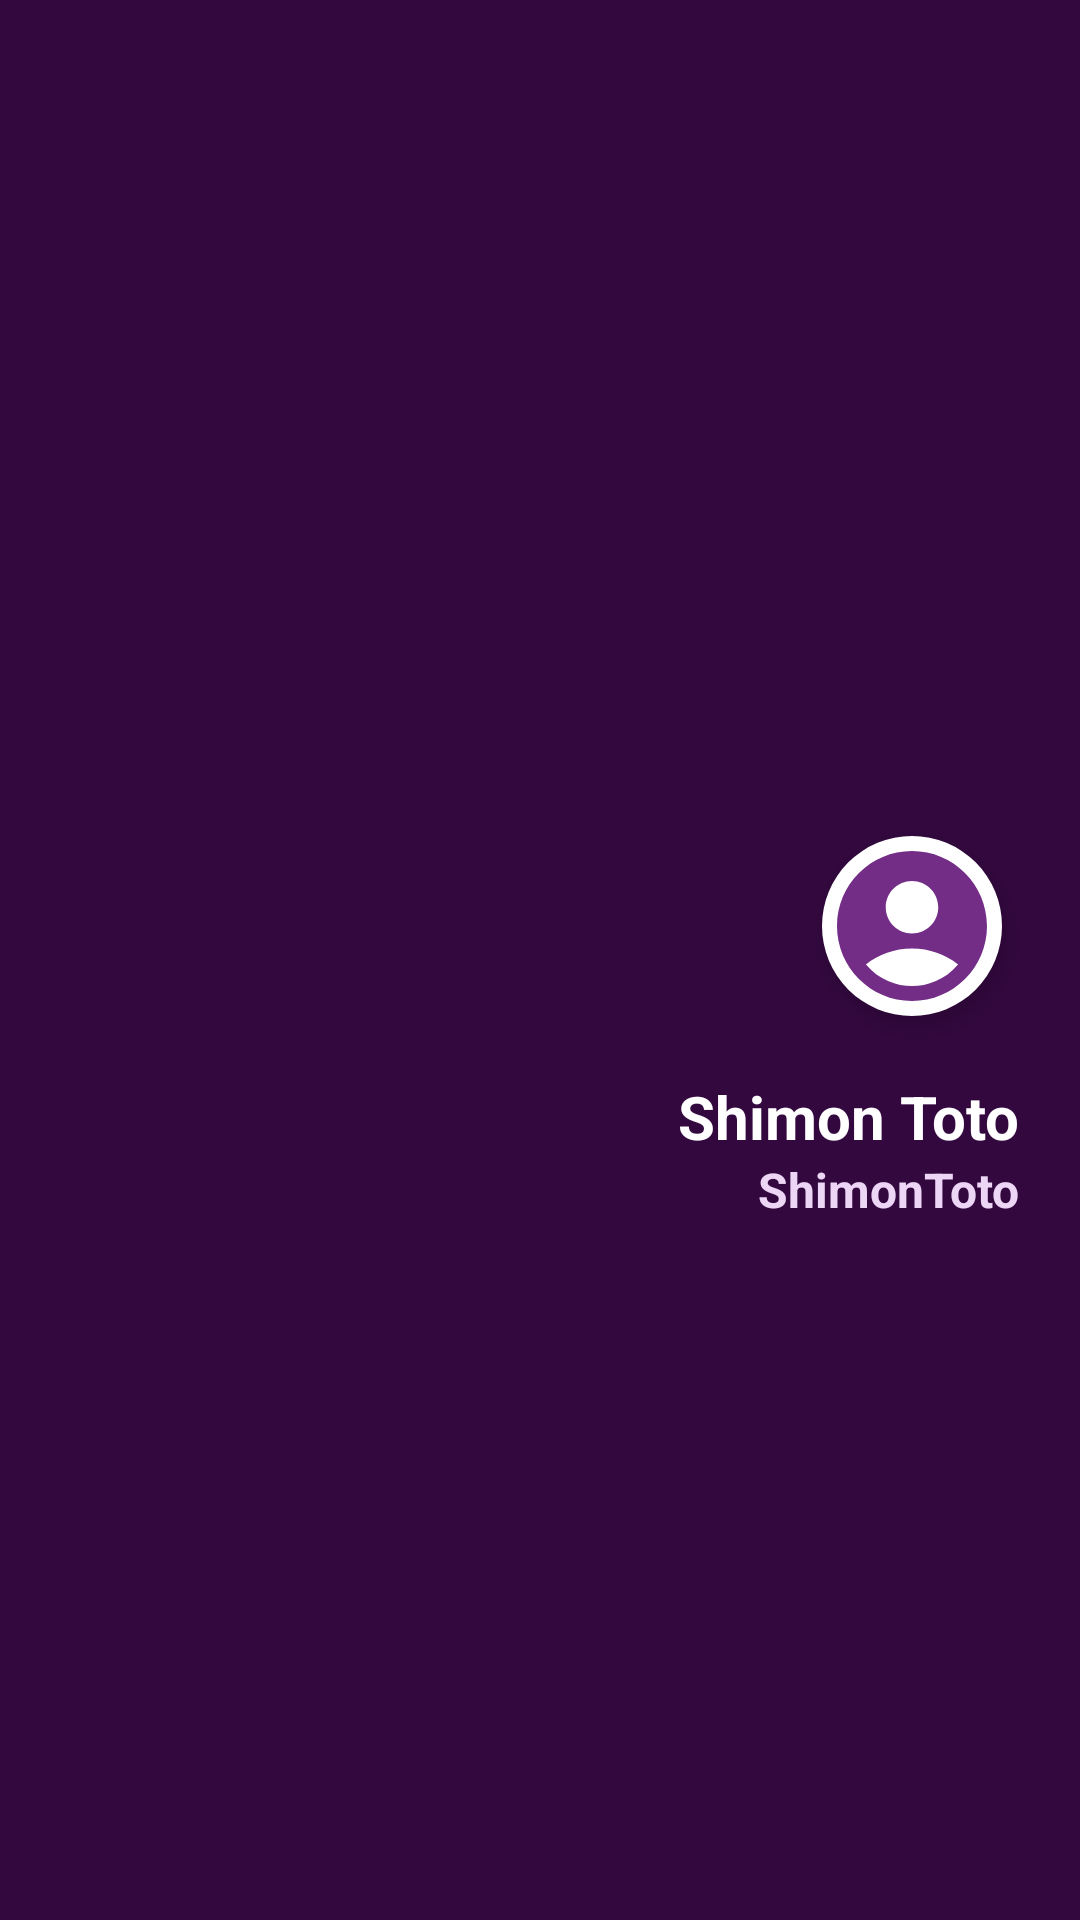

Named icons in this screenshot (1080*1920) and their bounding boxes, [left=x1, top=y1, right=x2, bottom=y2]:
profile: [left=822, top=836, right=1002, bottom=1016]
